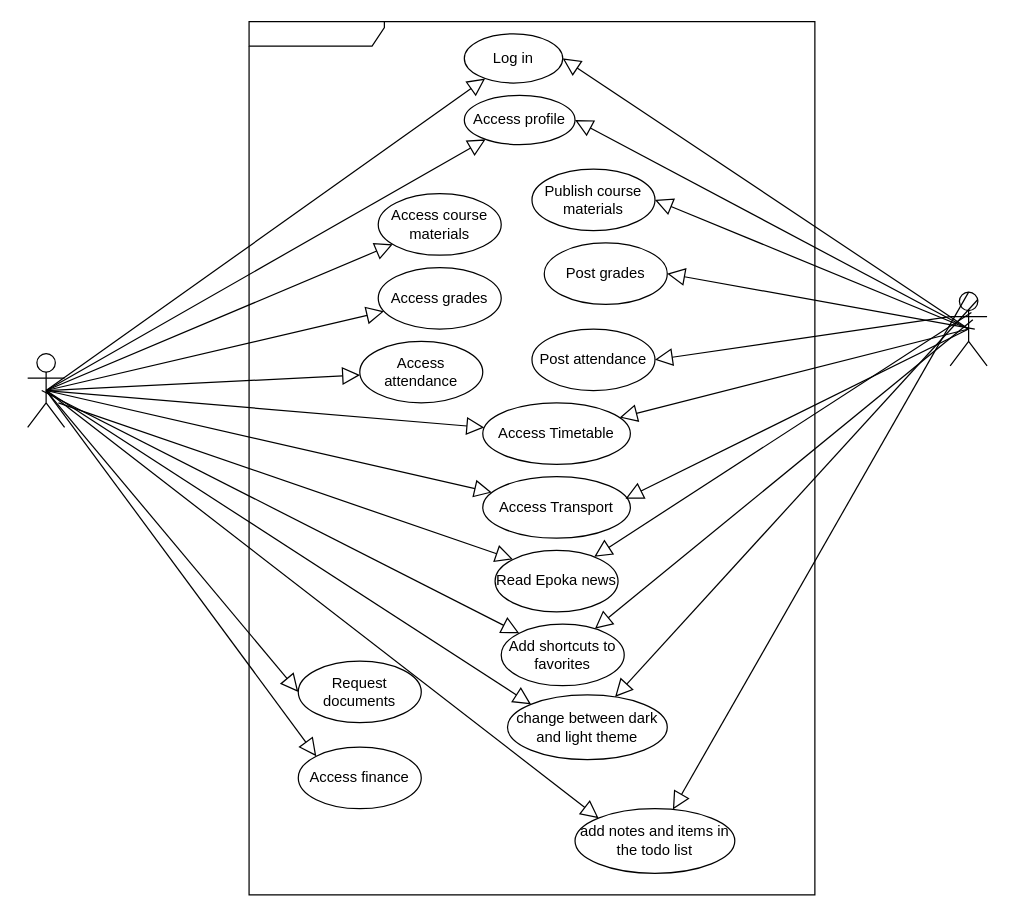
Some shapes in this 1021 by 916 pixel diagram are drawn without their labels. Each missing label, with the box of its shape:
Epoka e-learner: (248, 20, 815, 895)
Professor: (949, 291, 987, 366)
Student: (26, 352, 65, 427)
